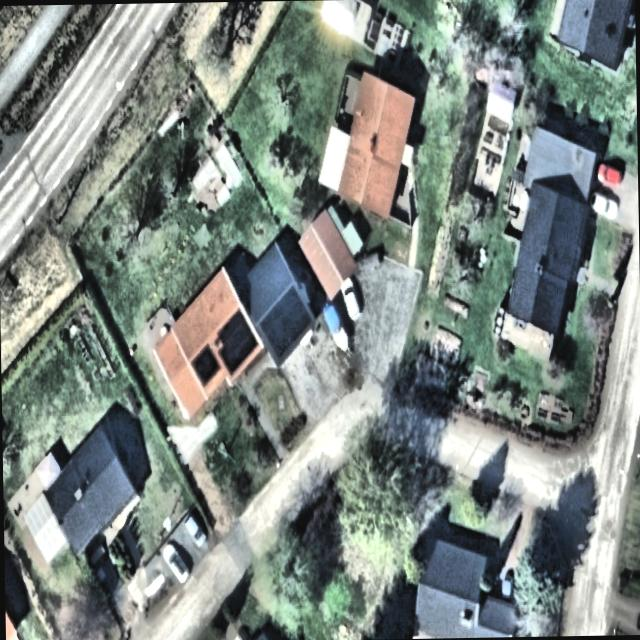roof_pv: (260, 286, 314, 360), (217, 305, 260, 373), (188, 342, 221, 390)
